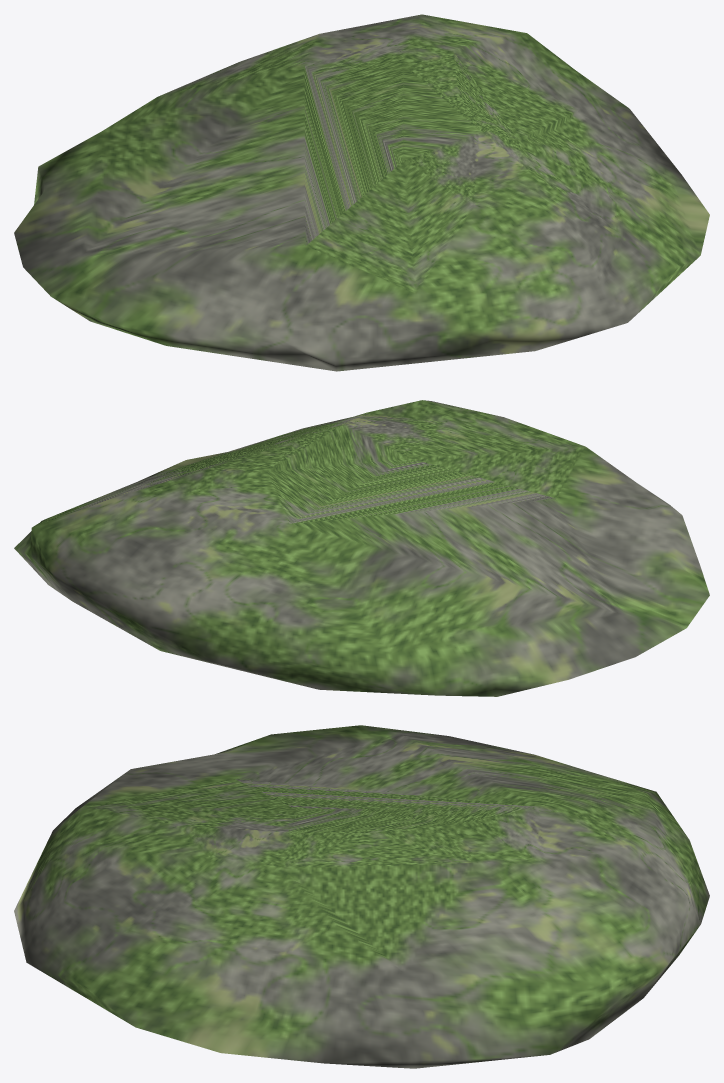
File: rock_grassland_flat_a_lod2.glb
3 views of the same model, one above another, from view 1: azimuth 30°, elevation 25°; view 2: azimuth 150°, elevation 25°; view 3: azimuth 270°, elevation 25° (orthographic). The views are drawn at different scales.
Parts seen in each view (by area): view 1: rock_grassland_flat_a; view 2: rock_grassland_flat_a; view 3: rock_grassland_flat_a.
Part boxes in pixels (left/top/right/bottom): rock_grassland_flat_a: left=14, top=14, right=709, bottom=371; rock_grassland_flat_a: left=14, top=400, right=709, bottom=696; rock_grassland_flat_a: left=14, top=725, right=709, bottom=1068.
Bounding box in the file's own units: 2.42 × 0.428 × 2.15.
1 material, 1 textured.
